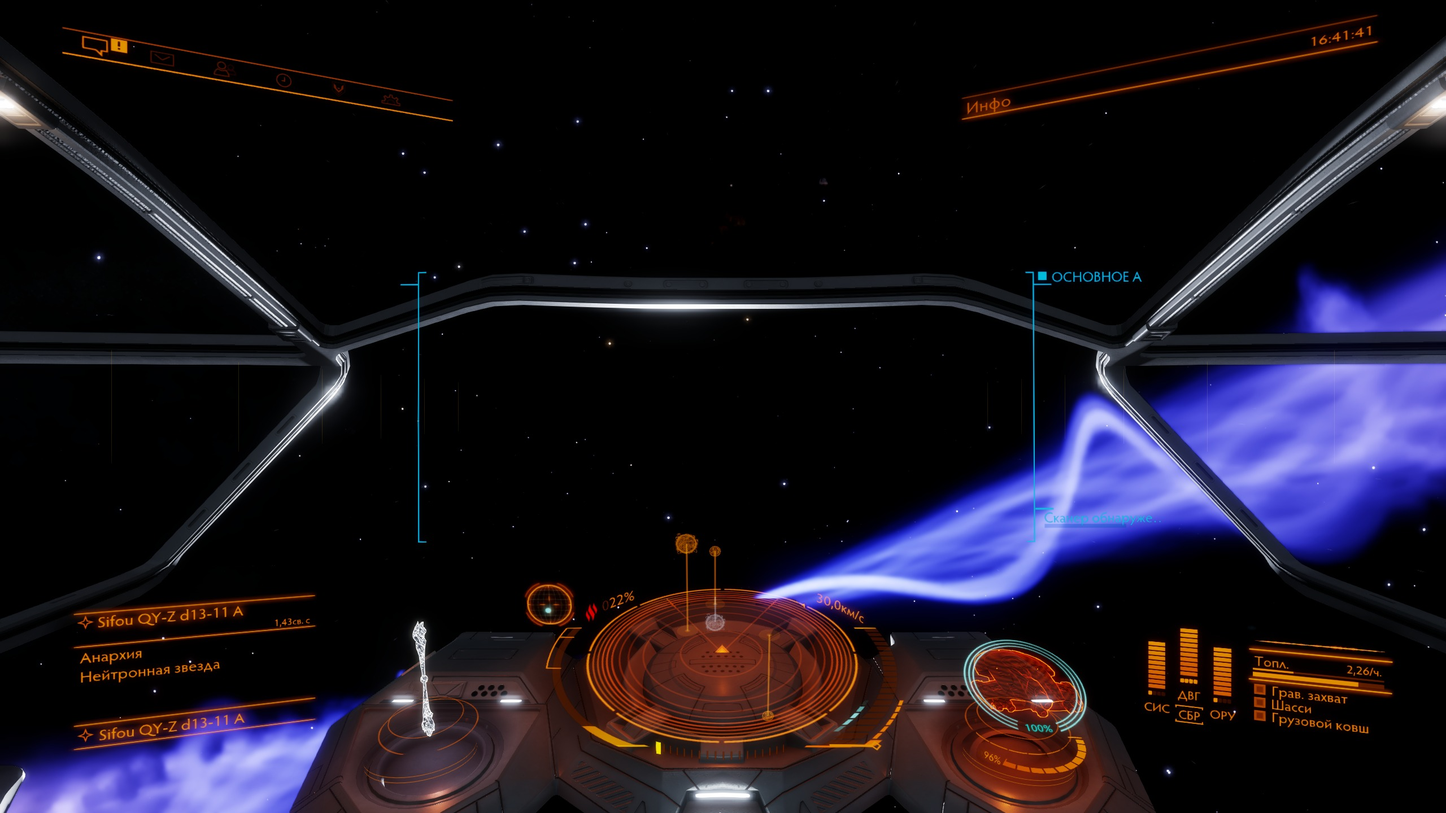jetcone: (731, 179, 1446, 609)
